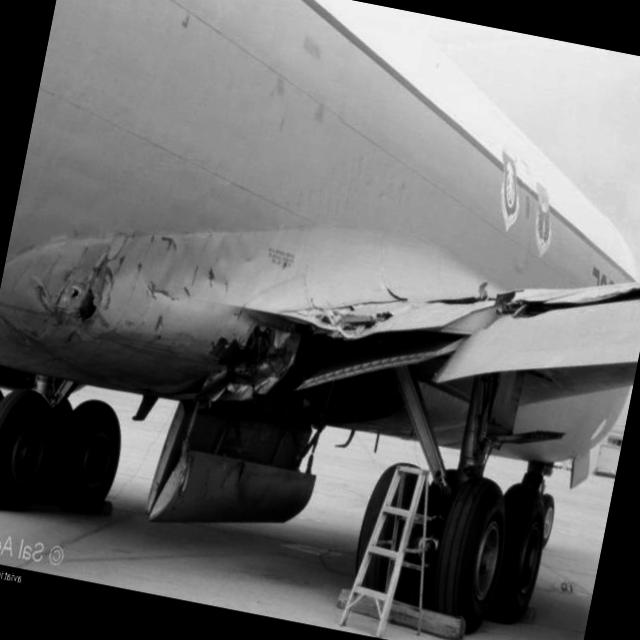crack: (58, 248, 110, 352)
dent: (150, 224, 256, 316)
